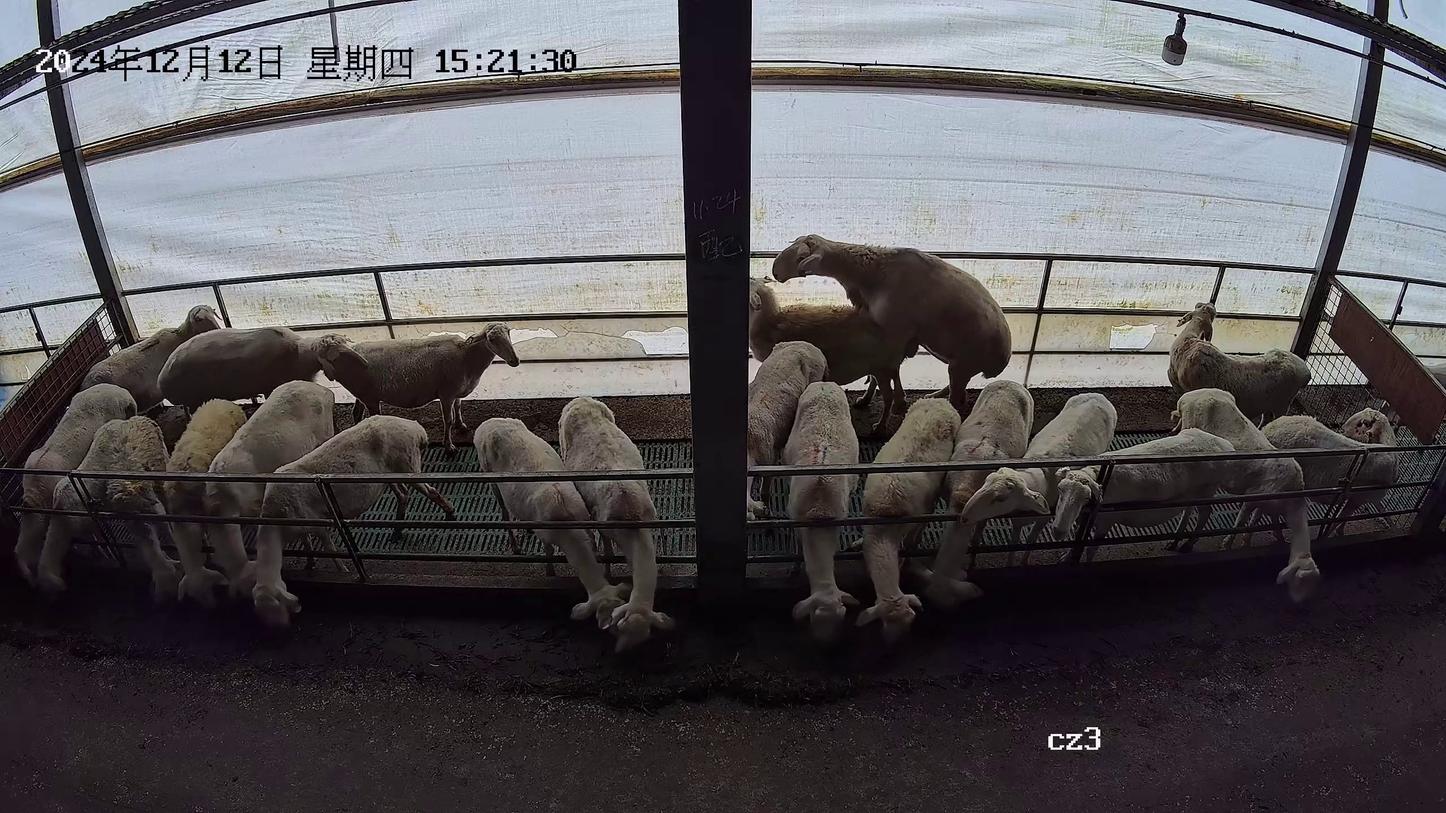Smounting: (746, 229, 1013, 438)
mounted: (750, 274, 916, 434)
